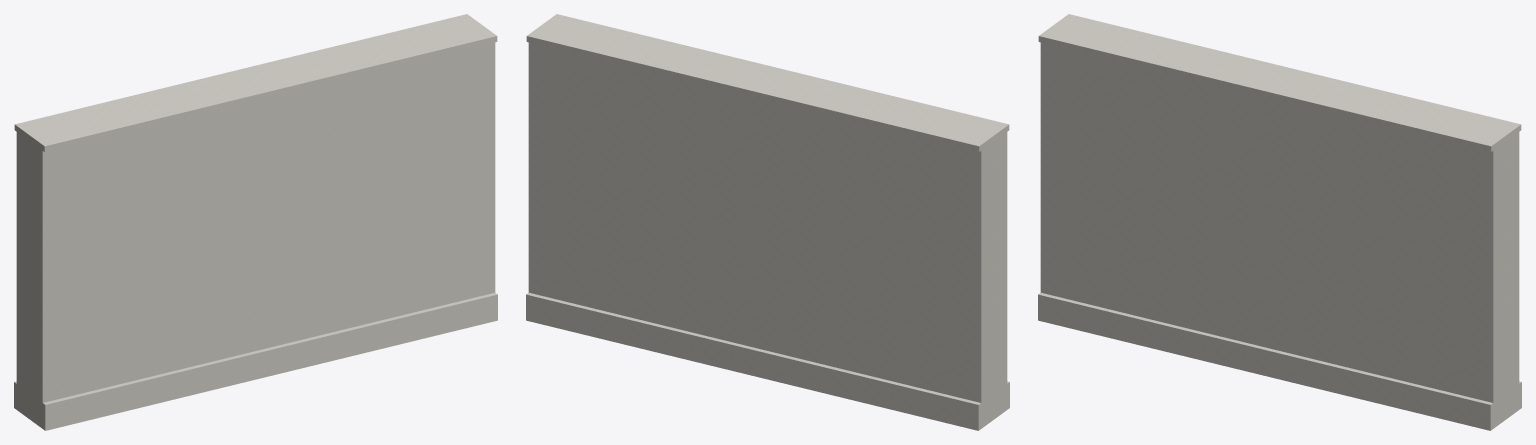
The model's file is OAR_Wall_Panel_Solid_2m.fbx.
3 renders of one model, left to right at view 1: azimuth 30°, elevation 25°; view 2: azimuth 150°, elevation 25°; view 3: azimuth 330°, elevation 25°, orthographic.
Visible parts, largest first — view 1: Body; view 2: Body; view 3: Body.
Part boxes in pixels (x1,y1,x2,y2): Body: (14,14,497,430); Body: (526,14,1009,430); Body: (1038,14,1521,430).
Bounding box in the file's own units: 2 × 1.2 × 0.24.
